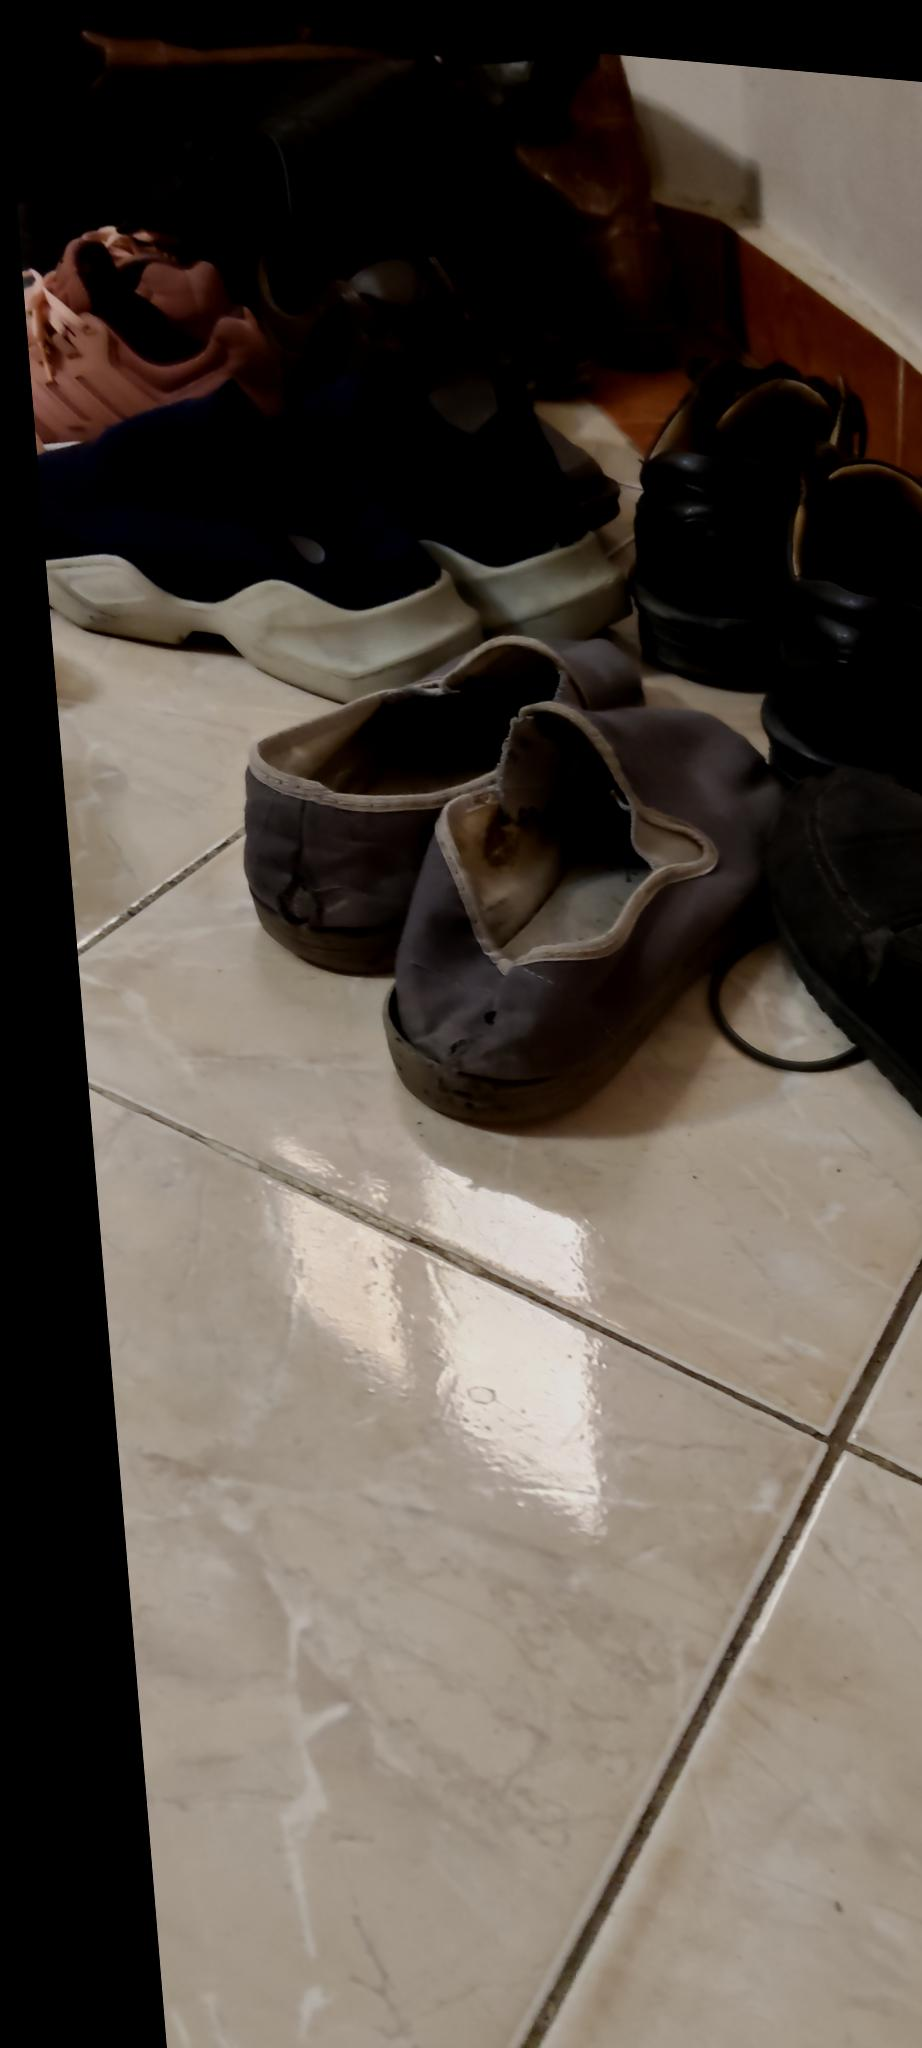Shoes: (358, 677, 818, 1163), (231, 611, 677, 999), (30, 364, 487, 709), (240, 343, 648, 647), (611, 343, 884, 675), (760, 755, 922, 1225), (743, 448, 922, 798), (24, 294, 282, 473), (18, 216, 236, 313)
